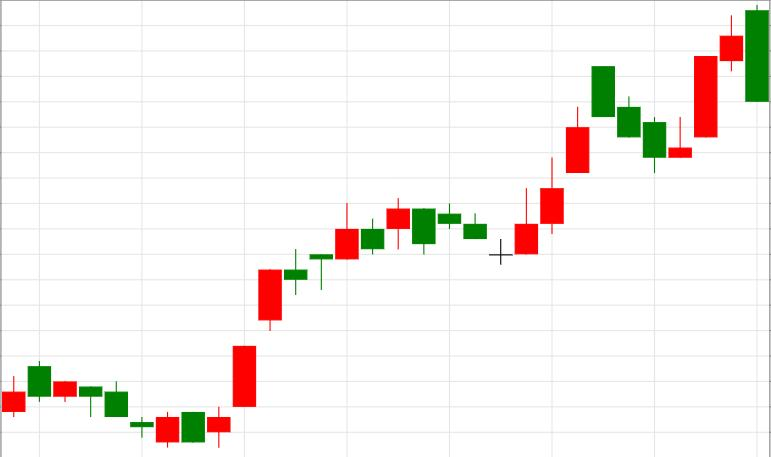bearish_engulfing_fall: (644, 6, 769, 171)
three_white_soldiers_rise: (413, 106, 589, 265)
